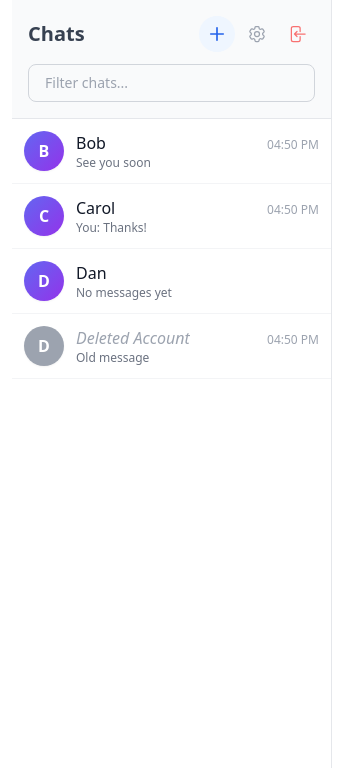
it: Sidebar › filters chats by name
Check: the button "B Bob 04:50 PM See you soon" is shown, box [12,119,331,184]
Type "car" into the field with placeholder "Filter chats..." at (172, 83), box [28,64,315,102]
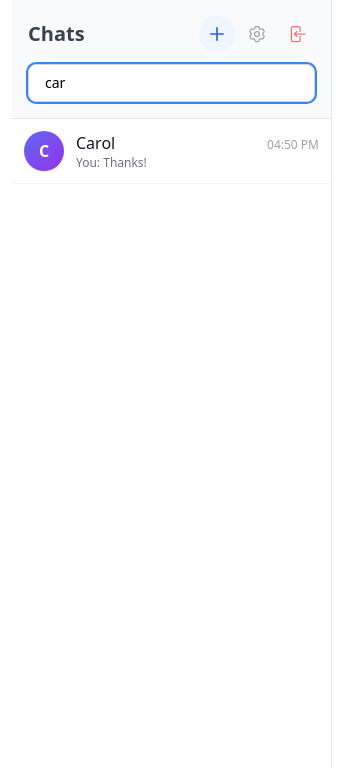
Check: the button "C Carol 04:50 PM You: Thanks!" is shown, box [12,119,331,184]
Check: the button "Bob" is gone
